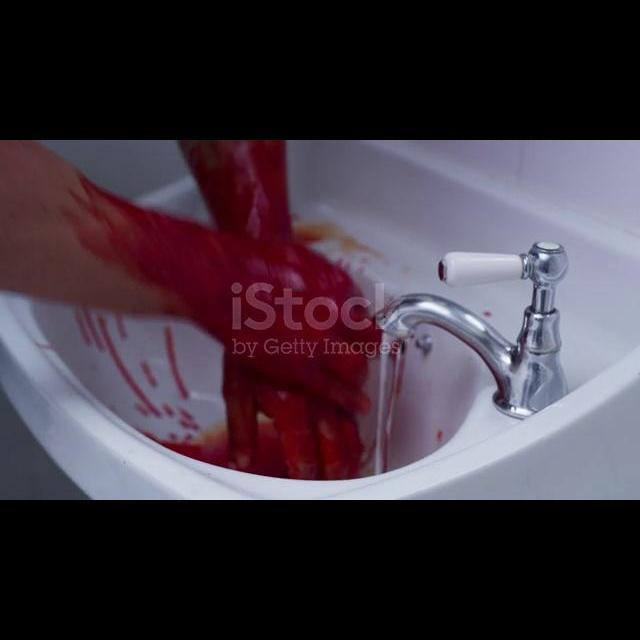blood: (67, 142, 381, 480), (72, 307, 201, 441)
